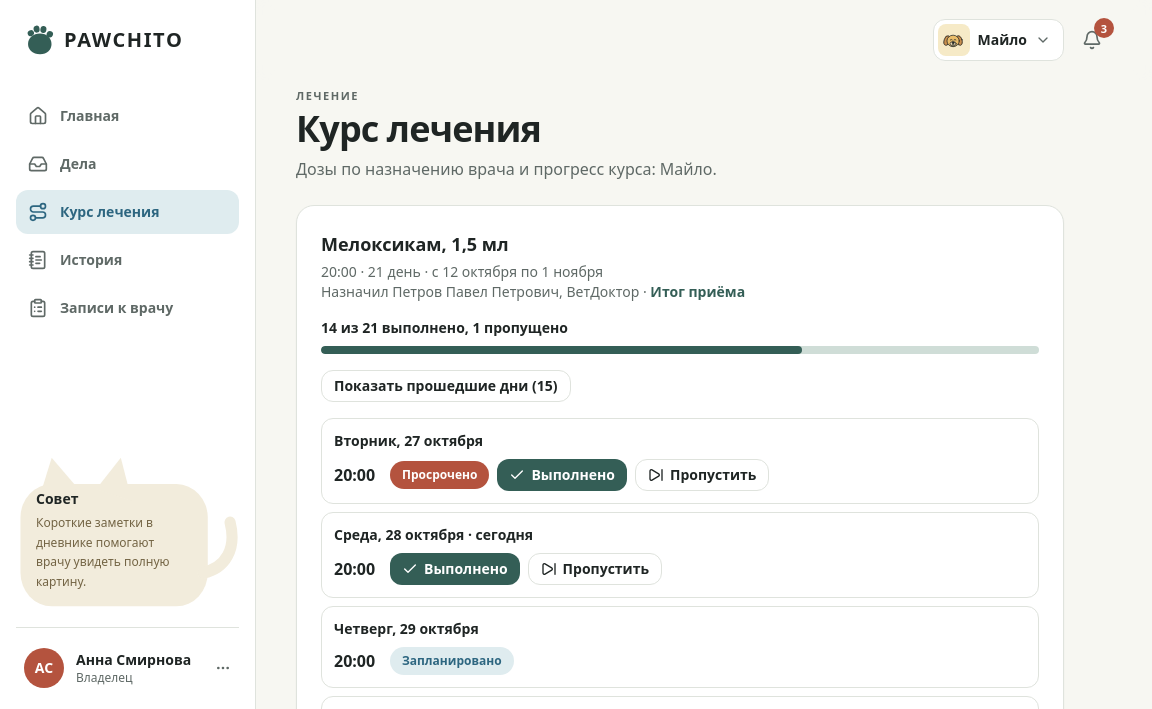
Scenario: CoursePage › отметка дозы: статус, прогресс пересчитан, фокус на днях курса
This screenshot has width=1152, height=709.
Click the button named "Выполнено, Мелоксикам, 1,5 мл, вторник, 27 октября, 20:00". click: (562, 474)
box: [497,458,627,490]
(page scrolled)
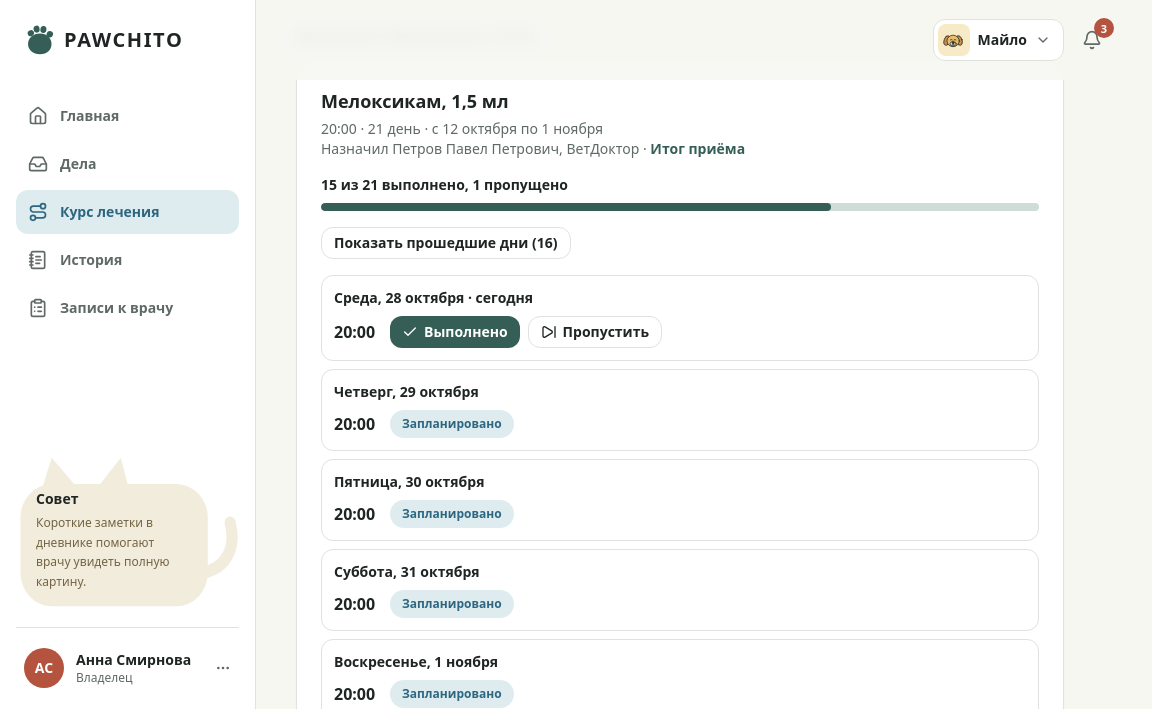
Now the text "15 из 21 выполнено, 1 пропущено" is shown, box [321,174,568,194]
Now the button "Показать прошедшие дни (16)" is shown, box [321,226,571,258]
